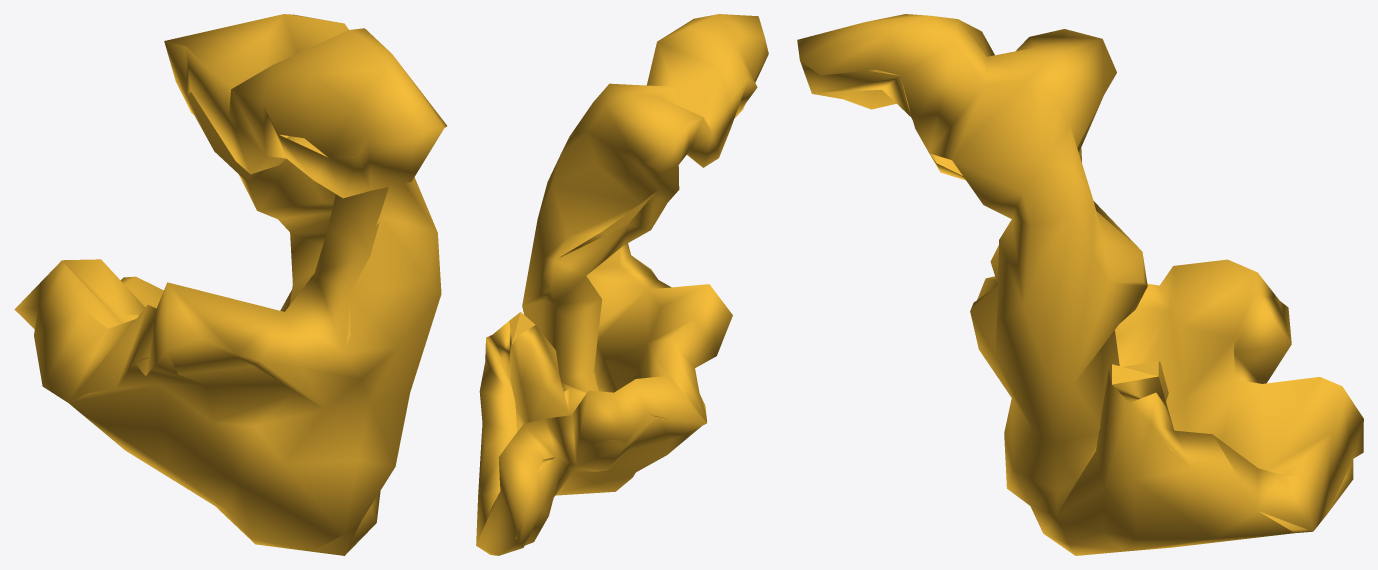
The model's file is nervoso-opercular-part-of-inferior-frontal-gyrus-l.glb.
3 renders of one model, left to right at view 1: azimuth 30°, elevation 25°; view 2: azimuth 150°, elevation 25°; view 3: azimuth 270°, elevation 25°, orthographic. The views are drawn at different scales.
Parts seen in each view (by area): view 1: Opercular part of inferior frontal gyrus.l; view 2: Opercular part of inferior frontal gyrus.l; view 3: Opercular part of inferior frontal gyrus.l.
Part boxes in pixels (x1,y1,x2,y2): Opercular part of inferior frontal gyrus.l: [14, 14, 446, 555]; Opercular part of inferior frontal gyrus.l: [476, 14, 768, 555]; Opercular part of inferior frontal gyrus.l: [797, 14, 1363, 555].
Size of the model in its own units: 0.0226 by 0.0393 by 0.0398.
